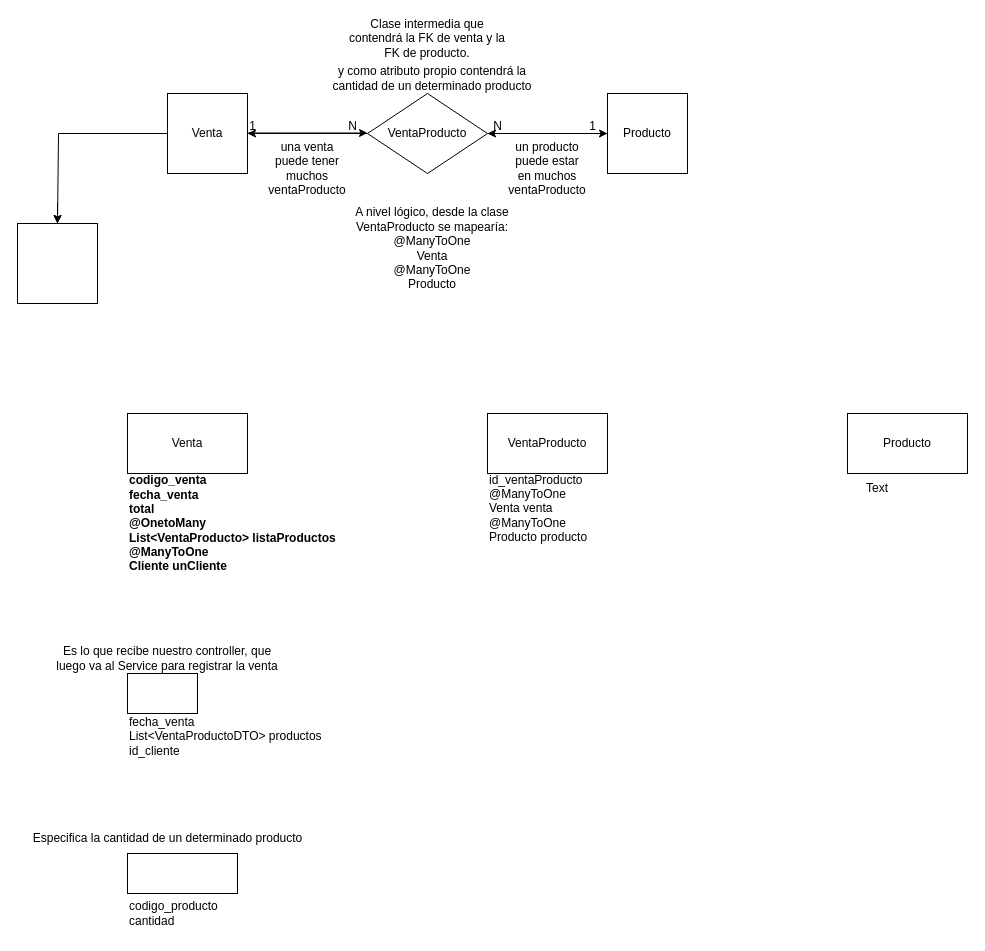
This 985x951 diagram has some shape labels left out. Each missing label, with the centre of its shape:
"Cliente" goes at [57,263].
"VentaDTO" goes at [162,693].
"VentaProductoDTO" goes at [182,873].
